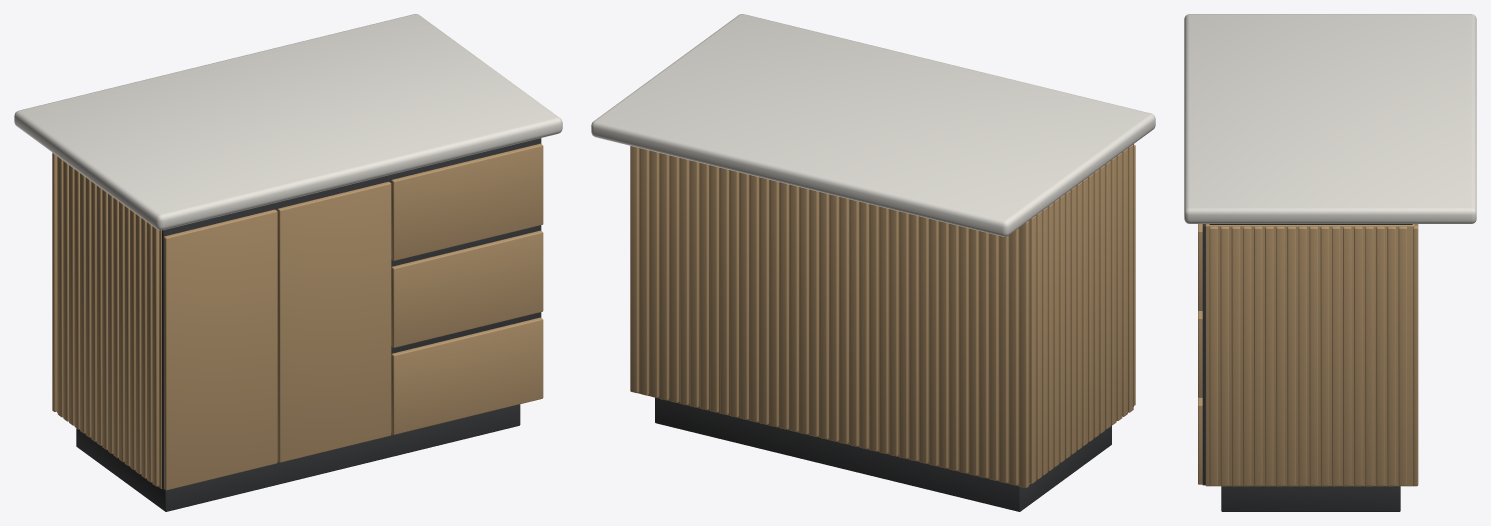
Rendered from islandtable.glb.
3 views of the same model, side by side, from view 1: azimuth 30°, elevation 25°; view 2: azimuth 150°, elevation 25°; view 3: azimuth 270°, elevation 25° (orthographic). The views are drawn at different scales.
Visible parts, largest first — view 1: top, door1, door0, drawer0, drawer1, drawer2, plinth, groove, rib_sl18, rib_sl15, rib_sl6, rib_sl1 (+16 smaller); view 2: top, body, plinth, rib_b0, rib_b1, rib_b2, rib_b8, rib_b6, rib_b10, rib_b15, rib_b3, rib_b4 (+49 smaller); view 3: top, body, plinth, rib_sr8, rib_sr17, rib_sr9, rib_sr16, rib_sr1, rib_sr2, rib_sr3, rib_sr4, rib_sr5 (+14 smaller).
Part boxes in pixels (bbox=[...]): top: bbox=[14, 14, 562, 230]; door1: bbox=[277, 181, 391, 462]; door0: bbox=[164, 209, 277, 490]; drawer0: bbox=[391, 317, 543, 434]; drawer1: bbox=[391, 230, 543, 347]; drawer2: bbox=[391, 143, 543, 260]; plinth: bbox=[76, 404, 520, 511]; groove: bbox=[162, 138, 541, 489]; rib_sl18: bbox=[152, 226, 159, 486]; rib_sl15: bbox=[135, 214, 141, 474]; rib_sl6: bbox=[85, 177, 91, 437]; rib_sl1: bbox=[57, 157, 63, 417]; top: bbox=[591, 14, 1155, 236]; body: bbox=[637, 148, 1030, 486]; plinth: bbox=[655, 397, 1111, 511]; rib_b0: bbox=[1019, 221, 1028, 487]; rib_b1: bbox=[1009, 228, 1018, 485]; rib_b2: bbox=[999, 236, 1008, 483]; rib_b8: bbox=[939, 221, 948, 468]; rib_b6: bbox=[959, 226, 968, 473]; rib_b10: bbox=[919, 216, 928, 463]; rib_b15: bbox=[869, 204, 878, 451]; rib_b3: bbox=[989, 233, 998, 480]; rib_b4: bbox=[979, 231, 988, 478]; top: bbox=[1184, 14, 1476, 223]; body: bbox=[1205, 224, 1414, 486]; plinth: bbox=[1221, 486, 1400, 511]; rib_sr8: bbox=[1320, 226, 1329, 486]; rib_sr17: bbox=[1220, 226, 1229, 486]; rib_sr9: bbox=[1309, 226, 1318, 486]; rib_sr16: bbox=[1231, 226, 1240, 486]; rib_sr1: bbox=[1398, 226, 1406, 486]; rib_sr2: bbox=[1387, 226, 1395, 486]; rib_sr3: bbox=[1376, 226, 1384, 486]; rib_sr4: bbox=[1365, 226, 1373, 486]; rib_sr5: bbox=[1354, 226, 1362, 486].
Bounding box in the file's own units: 1.2 × 0.89 × 0.75.
